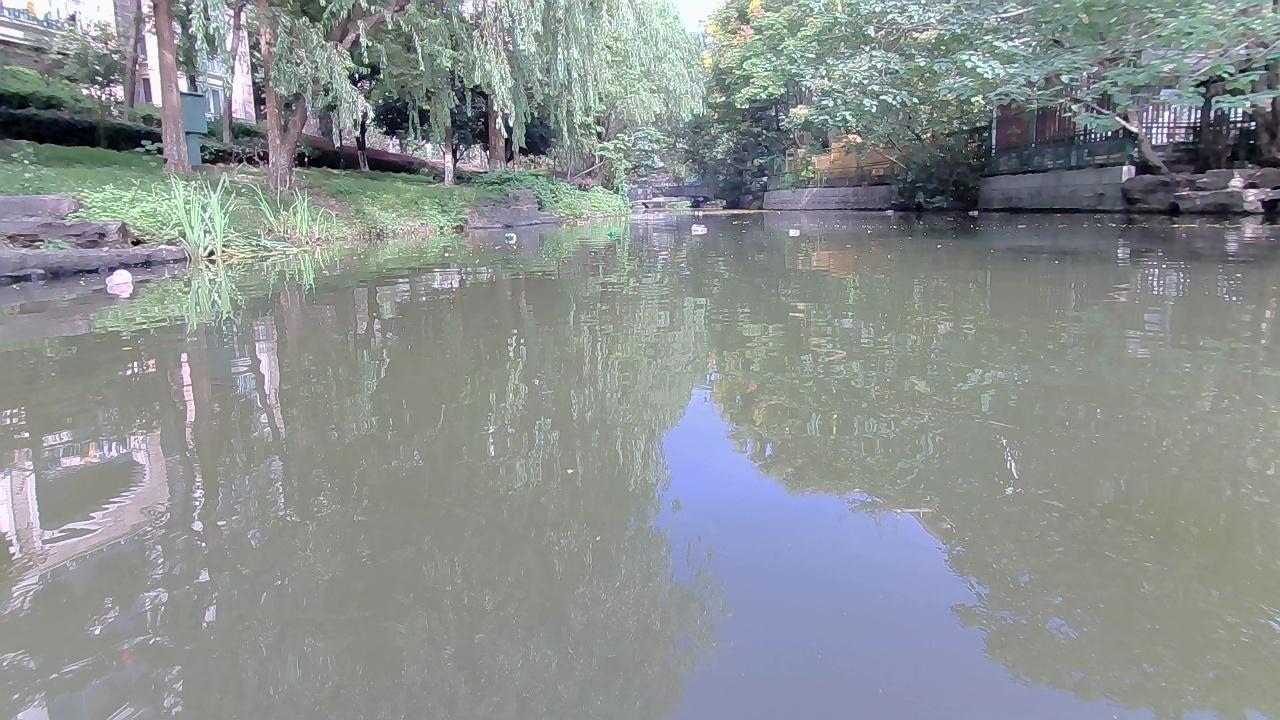bottle: (101, 266, 131, 289), (688, 223, 707, 237), (604, 227, 619, 240), (784, 227, 802, 236), (502, 231, 515, 243)
